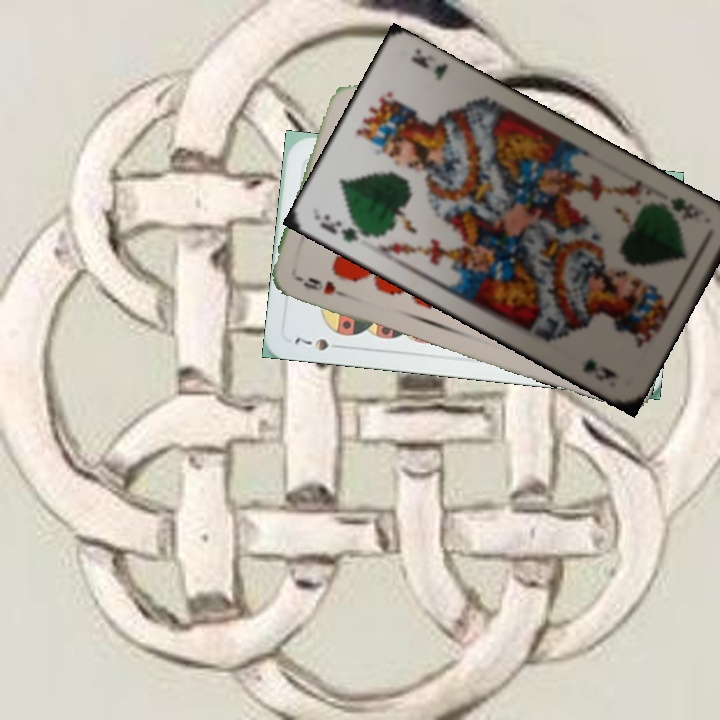GK: (315, 210, 372, 246), (666, 192, 706, 222)
H9: (293, 273, 351, 301)
S7: (290, 333, 347, 353)
